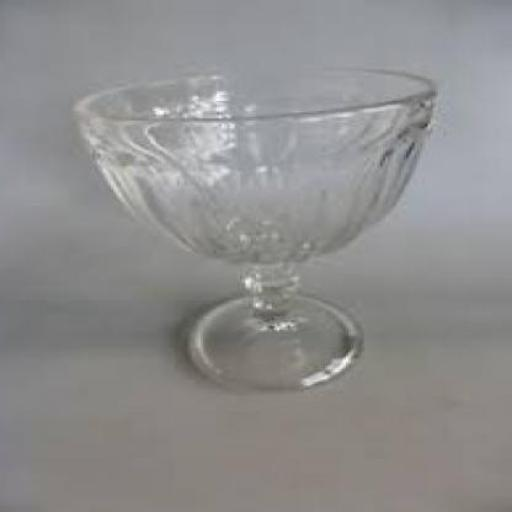glass: (79, 67, 438, 390)
